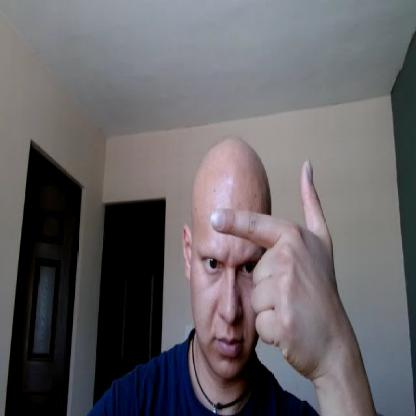G: (209, 158, 337, 373)
